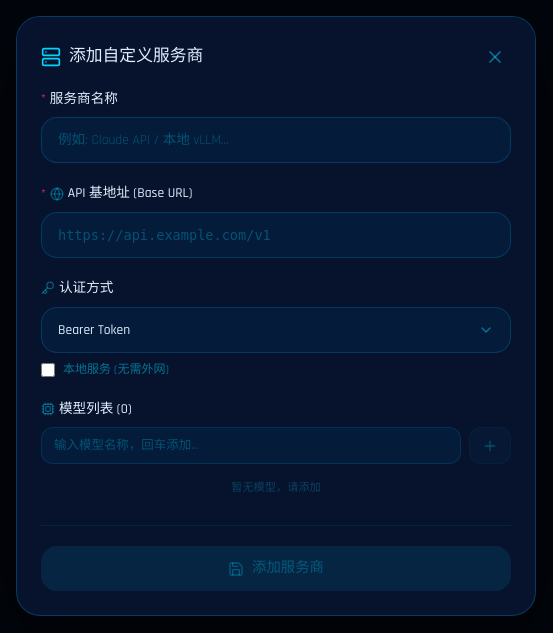
ProviderEditorModal › 认证方式 › selecting auth type 'none' sets isLocal to true
Click the button "Bearer Token" at (94, 330), box [41, 306, 511, 353]
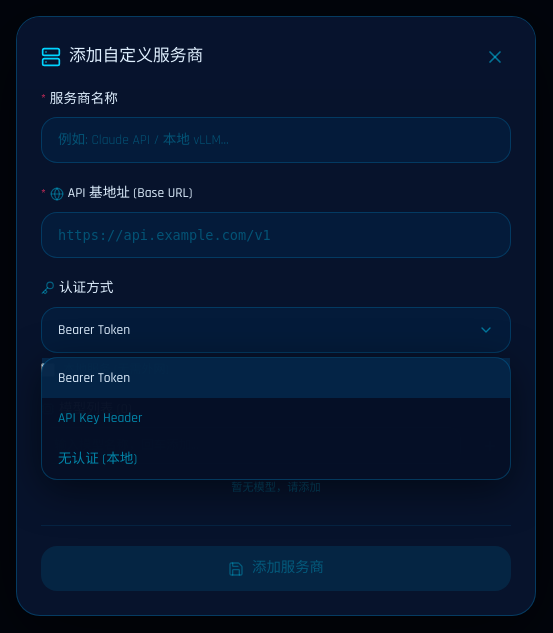
Click the button "无认证 (本地)" at (98, 459), box [42, 439, 510, 479]
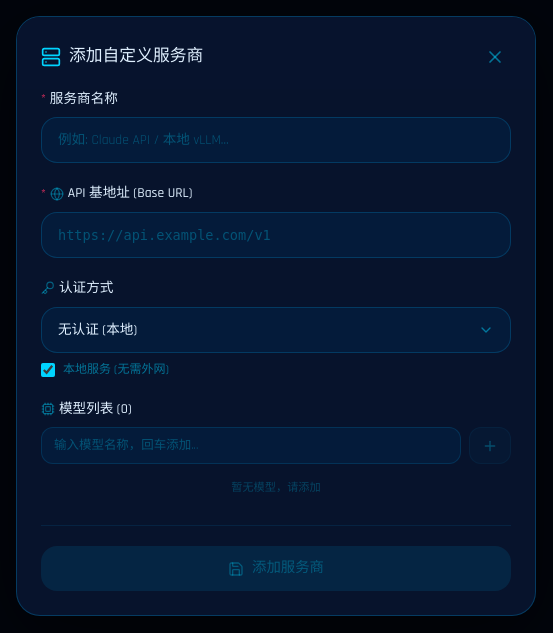
Check: the checkbox is checked, box [41, 363, 55, 377]
